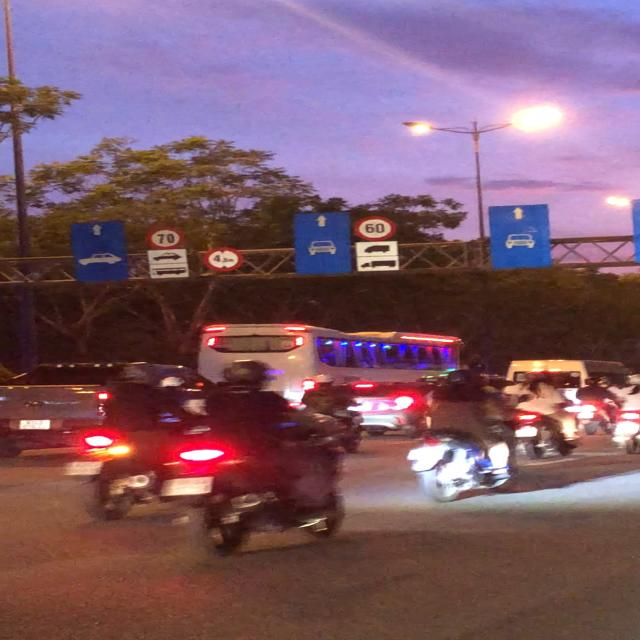Bien bao han che chieu cao: (202, 246, 246, 274)
Bien bao toc do toi da cho phep: (344, 212, 404, 245), (144, 223, 189, 250)
